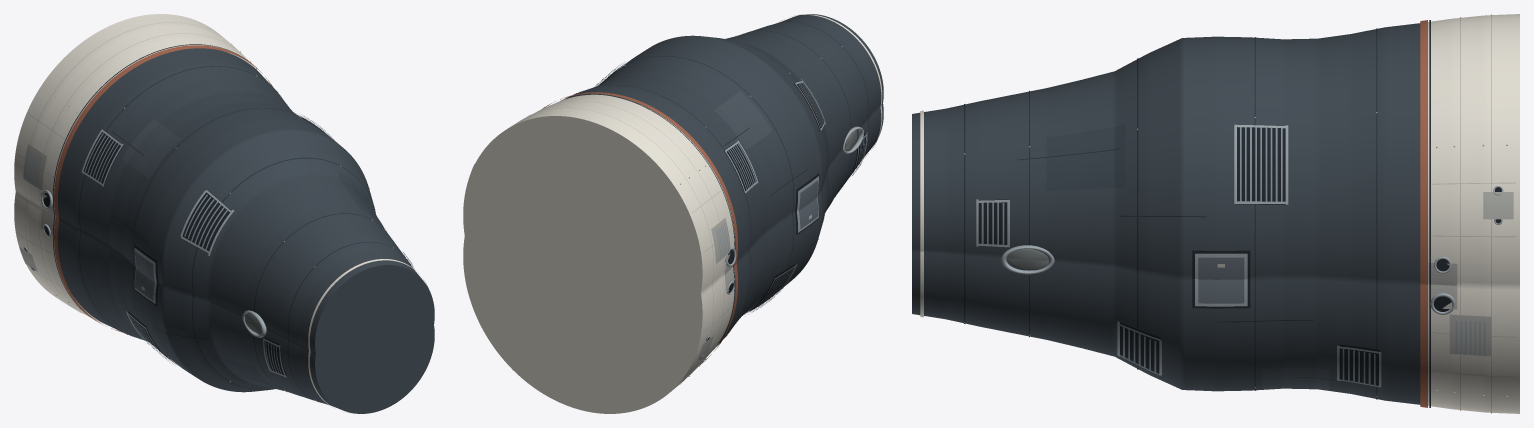
The model's file is cockpit-standard.glb.
3 renders of one model, left to right at view 1: azimuth 30°, elevation 25°; view 2: azimuth 150°, elevation 25°; view 3: azimuth 270°, elevation 25°, orthographic. The views are drawn at different scales.
Parts seen in each view (by area): view 1: cockpit_hull, cockpit_body_plate_starboard_aft, cockpit_copper_joint_band, cockpit_grille_starboard_lower_mid_recess, cockpit_grille_starboard_aft_recess, cockpit_body_plate_starboard_fore, cockpit_joint_finned_unit_starboard_case, cockpit_side_hatch_door_starboard, cockpit_body_plate_port_fore, cockpit_forward_rim, cockpit_joint_inner_seam, cockpit_body_cross_seam_2 (+2 smaller); view 2: cockpit_hull, cockpit_body_plate_starboard_aft, cockpit_copper_joint_band, cockpit_side_hatch_door_starboard, cockpit_grille_starboard_aft_recess, cockpit_joint_finned_unit_starboard_case, cockpit_grille_starboard_upper_mid_recess, cockpit_grille_starboard_lower_mid_recess; view 3: cockpit_hull, cockpit_body_plate_port_fore, cockpit_copper_joint_band, cockpit_grille_port_upper_mid_recess, cockpit_side_hatch_door_port, cockpit_body_plate_port_aft, cockpit_joint_finned_unit_port_case, cockpit_grille_port_aft_recess, cockpit_grille_port_lower_mid_recess, cockpit_grille_port_fore_recess, cockpit_joint_aperture_plate_port, cockpit_aft_dual_port_case_port (+8 smaller).
Boxes of the visible parts, box(x1,y1,x2,y2) form: cockpit_hull: box(14, 14, 434, 413); cockpit_body_plate_starboard_aft: box(122, 118, 180, 178); cockpit_copper_joint_band: box(54, 45, 273, 332); cockpit_grille_starboard_lower_mid_recess: box(182, 191, 230, 253); cockpit_grille_starboard_aft_recess: box(84, 130, 123, 186); cockpit_body_plate_starboard_fore: box(211, 356, 280, 389); cockpit_joint_finned_unit_starboard_case: box(23, 144, 46, 190); cockpit_side_hatch_door_starboard: box(135, 251, 154, 300); cockpit_body_plate_port_fore: box(337, 171, 383, 226); cockpit_forward_rim: box(308, 259, 428, 413); cockpit_joint_inner_seam: box(53, 44, 247, 316); cockpit_body_cross_seam_2: box(192, 157, 372, 389); cockpit_hull: box(463, 14, 883, 413); cockpit_body_plate_starboard_aft: box(714, 91, 771, 150); cockpit_copper_joint_band: box(543, 92, 737, 364); cockpit_side_hatch_door_starboard: box(799, 180, 818, 228); cockpit_grille_starboard_aft_recess: box(724, 142, 755, 193); cockpit_joint_finned_unit_starboard_case: box(711, 218, 729, 263); cockpit_grille_starboard_upper_mid_recess: box(748, 263, 795, 312); cockpit_grille_starboard_lower_mid_recess: box(794, 83, 823, 131); cockpit_hull: box(912, 14, 1519, 413); cockpit_body_plate_port_fore: box(1046, 123, 1125, 190); cockpit_copper_joint_band: box(1420, 20, 1427, 407); cockpit_grille_port_upper_mid_recess: box(1236, 127, 1285, 204); cockpit_side_hatch_door_port: box(1198, 257, 1244, 303); cockpit_body_plate_port_aft: box(1262, 367, 1329, 390); cockpit_joint_finned_unit_port_case: box(1449, 314, 1491, 356); cockpit_grille_port_aft_recess: box(1338, 344, 1379, 385); cockpit_grille_port_lower_mid_recess: box(1120, 322, 1160, 372); cockpit_grille_port_fore_recess: box(978, 199, 1008, 244); cockpit_joint_aperture_plate_port: box(1428, 263, 1457, 309); cockpit_aft_dual_port_case_port: box(1483, 192, 1513, 219).
Bounding box in the file's own units: 5.34 × 6 × 9.
